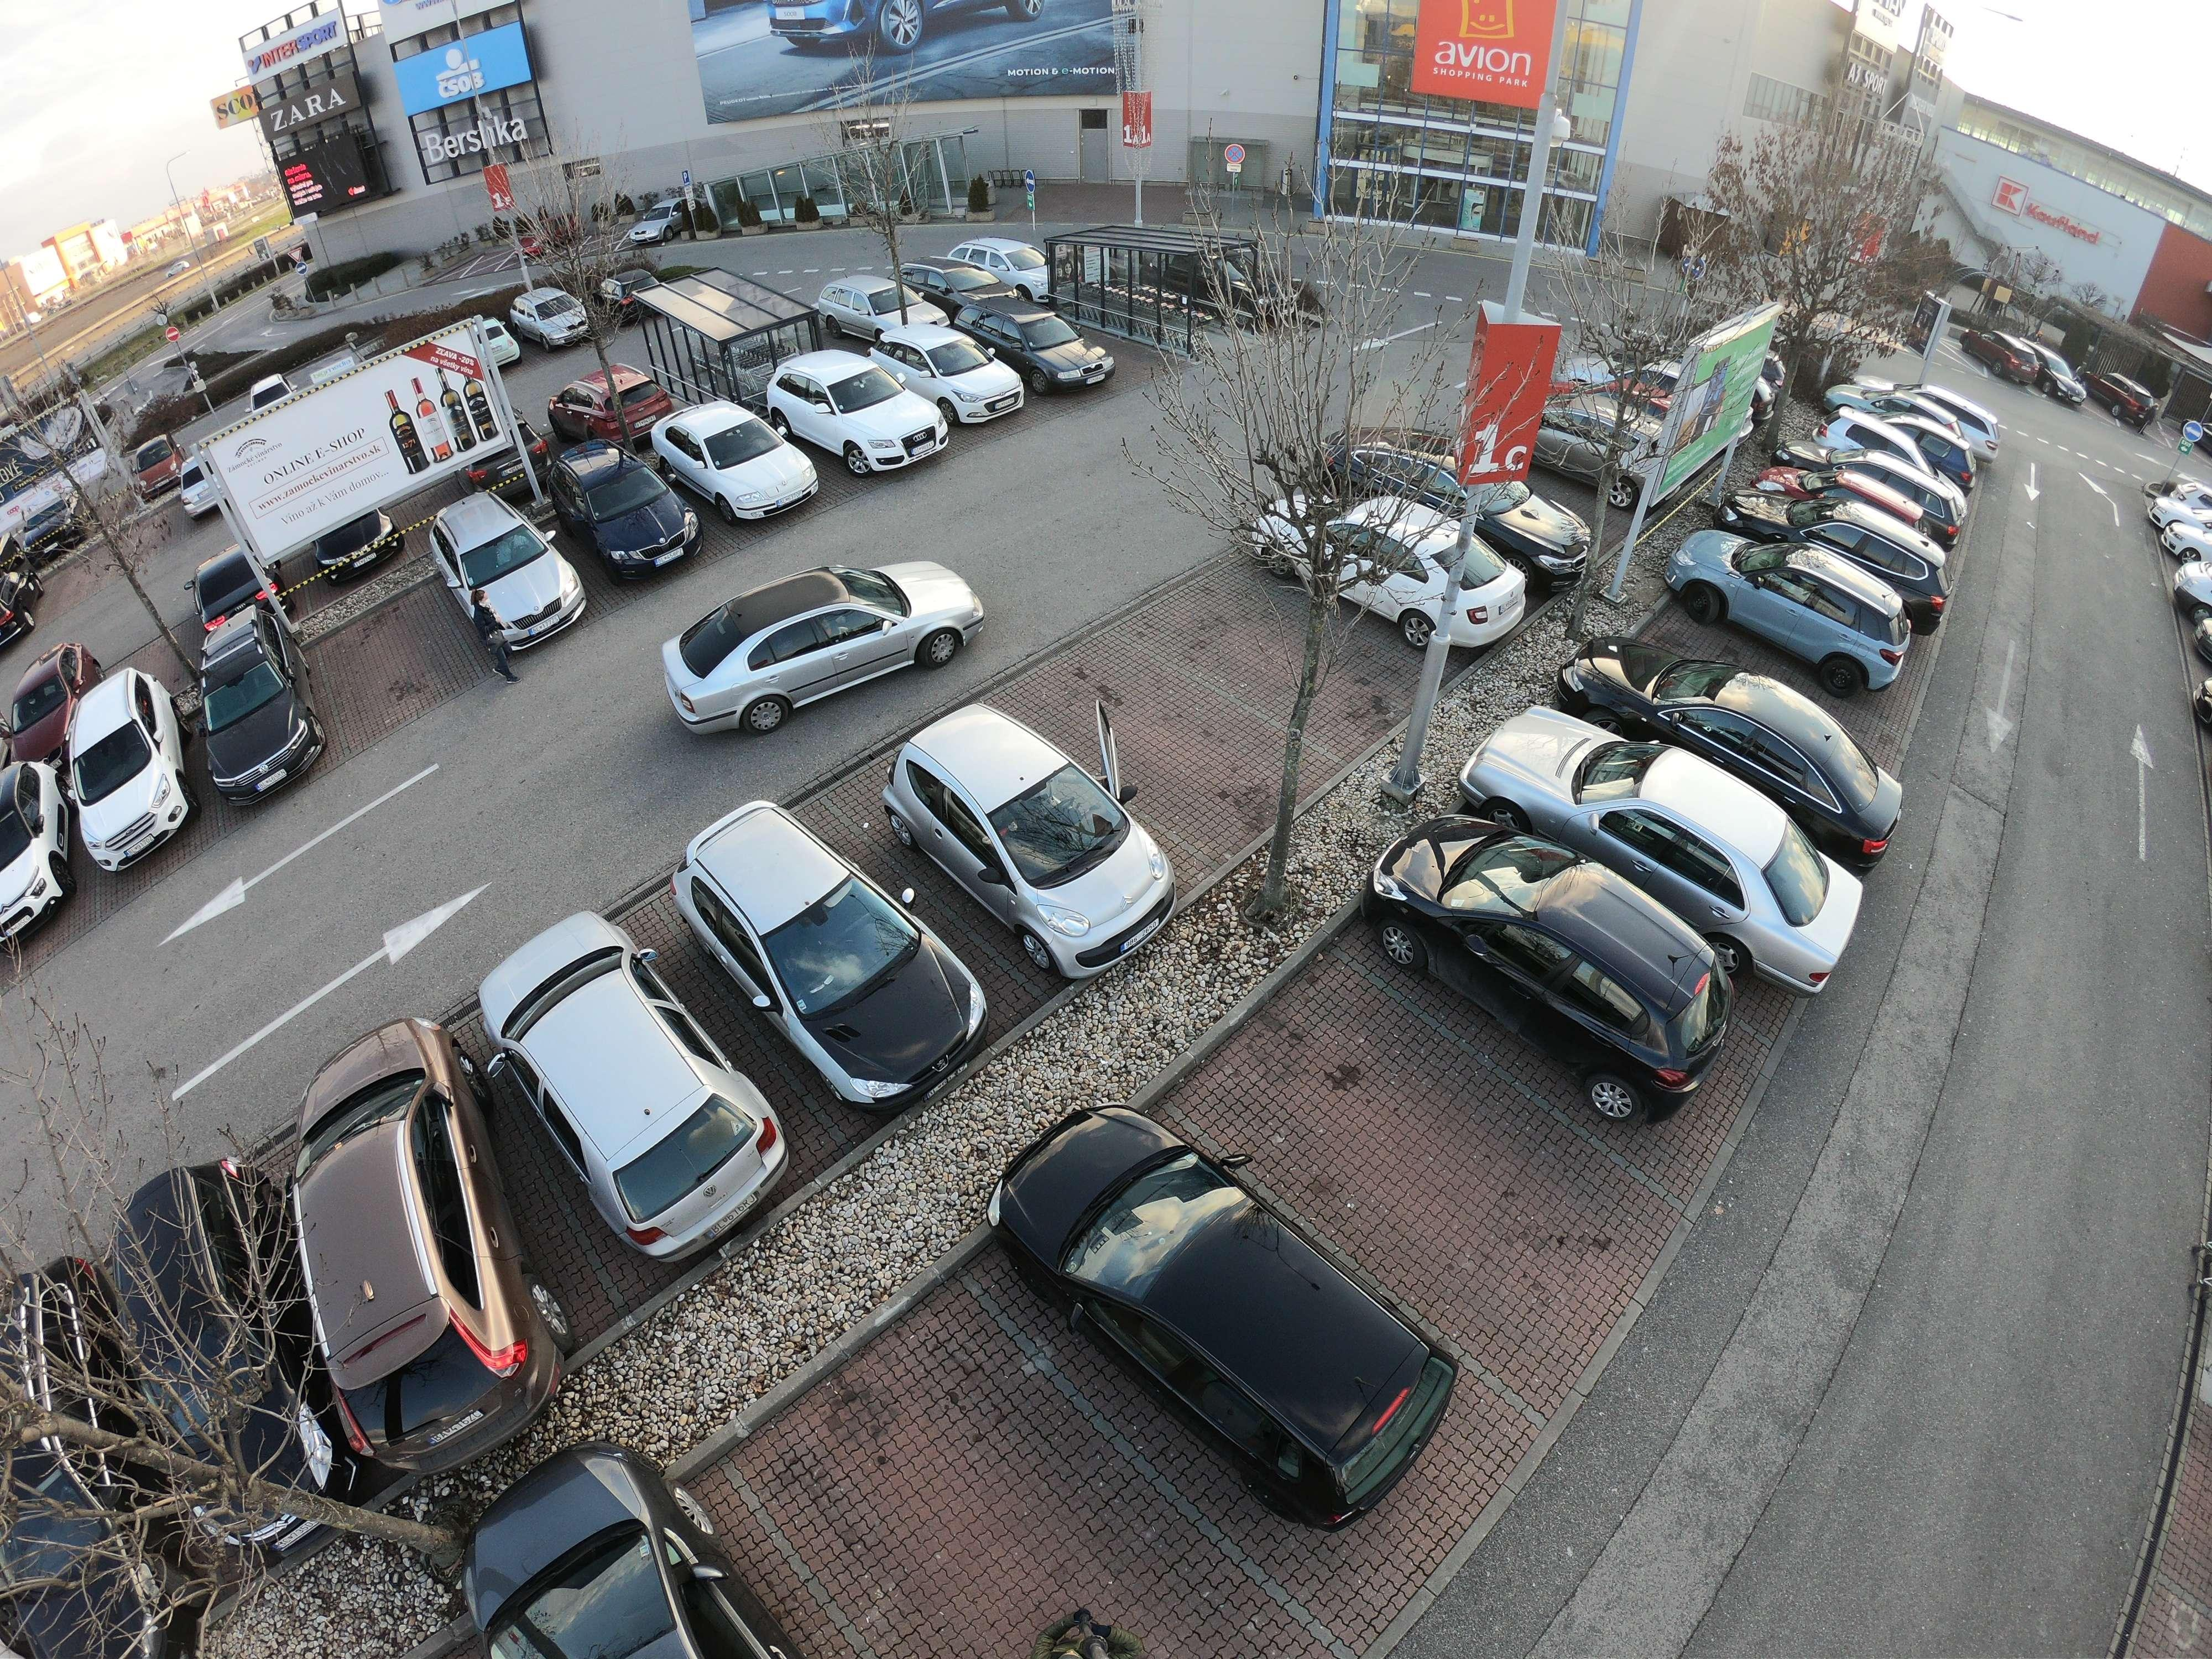empty: (1024, 1129, 1474, 1520), (226, 1011, 571, 1481), (470, 911, 786, 1274), (660, 802, 989, 1103), (1465, 721, 1857, 957), (1393, 824, 1733, 1086), (455, 1448, 813, 1659), (873, 706, 1167, 960), (1575, 648, 1893, 831), (669, 565, 972, 730), (1660, 530, 1921, 680), (1301, 498, 1527, 641), (475, 462, 674, 613), (51, 667, 204, 859), (427, 498, 592, 648), (195, 631, 327, 807), (646, 403, 824, 525), (766, 359, 949, 476), (550, 444, 707, 579), (1754, 502, 1947, 587), (954, 303, 1122, 394), (866, 328, 1024, 422), (1794, 464, 1965, 533), (813, 279, 944, 349), (509, 291, 604, 357)
occupied: (838, 1467, 1146, 1652), (1308, 1098, 1526, 1260), (1069, 678, 1263, 852), (1186, 612, 1388, 739), (338, 631, 467, 702)
